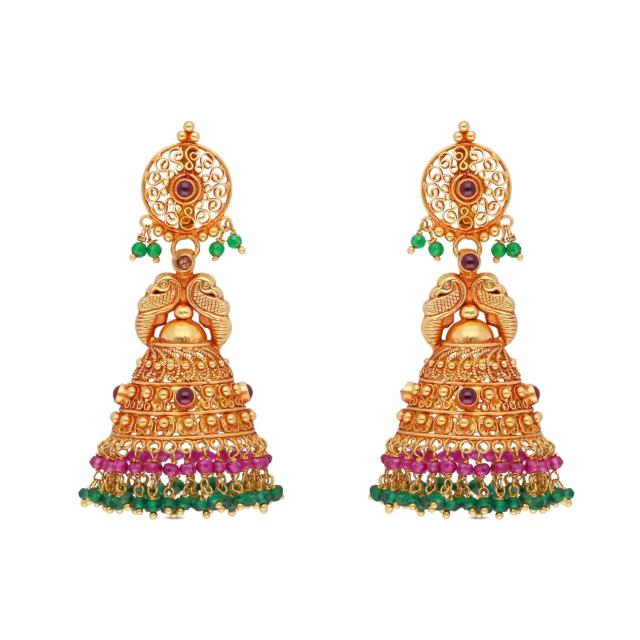missing gem: (175, 255, 192, 271), (400, 381, 407, 401)
